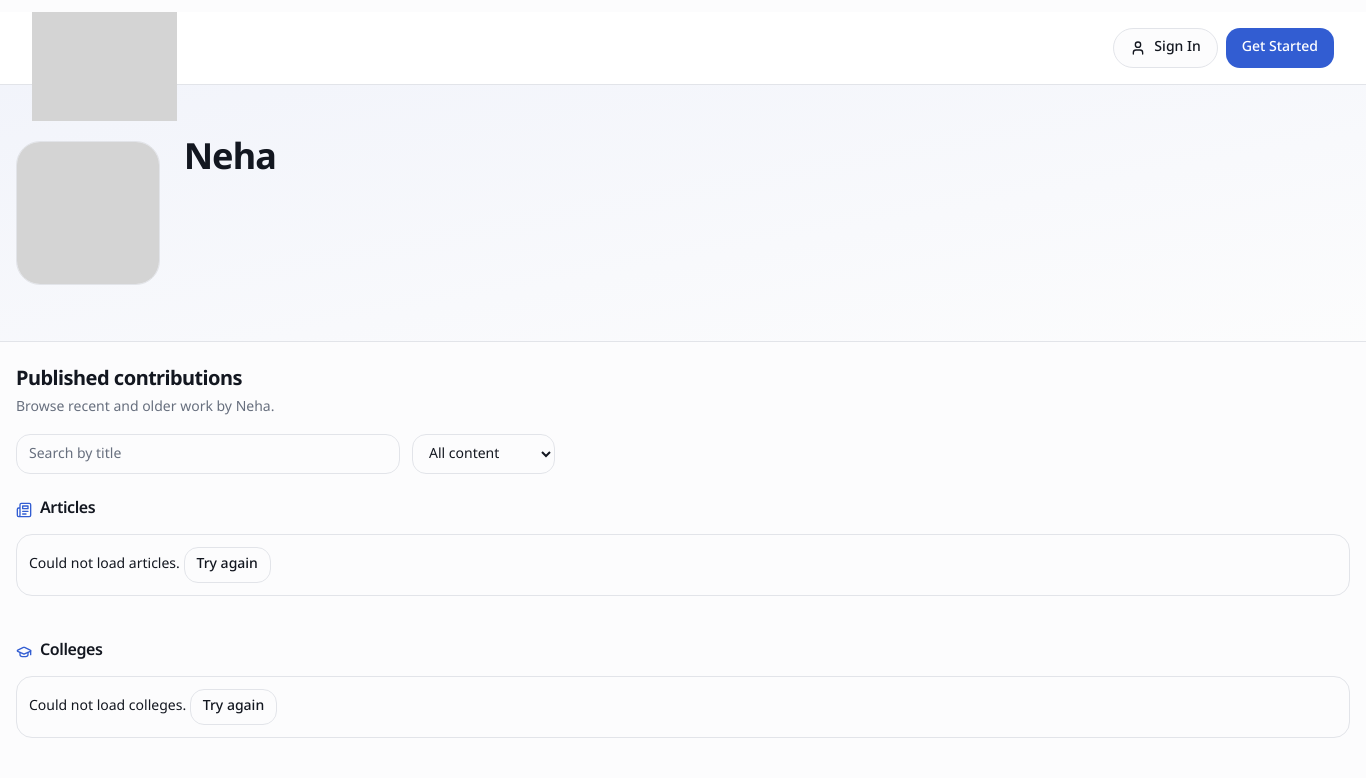
Scenario: public writer profile › shows a retry action for contribution errors rather than no published content
Expected: the text "Could not load articles. Try again" is shown, 16,534 -> 1350,596
Expected: the text "No published articles yet." is not shown
Click the 1st button "Try again" at coordinates (227, 565), box 184,547 -> 271,583
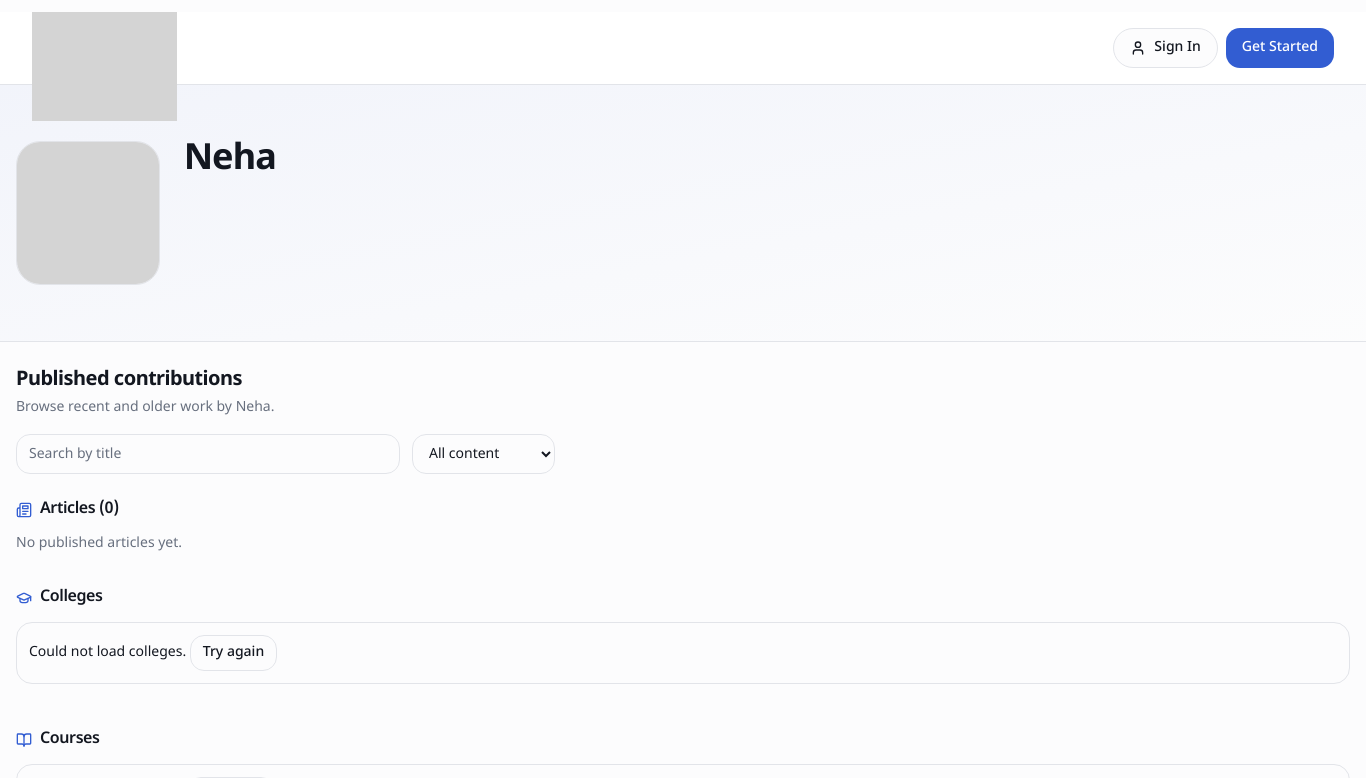
Now the text "No published articles yet." is shown, box 16,534 -> 182,553
